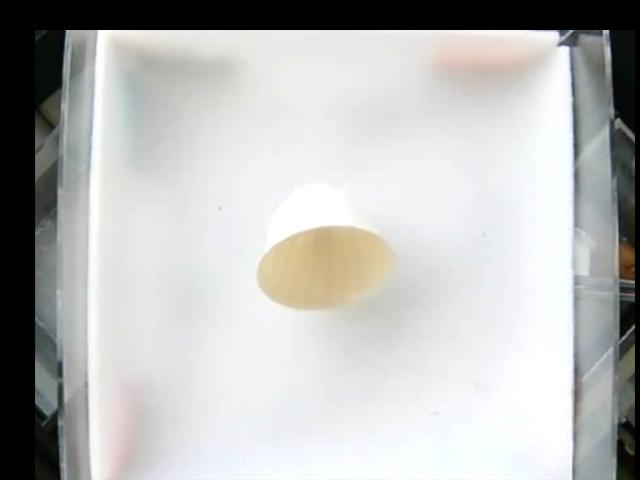Cup: (259, 184, 396, 313)
